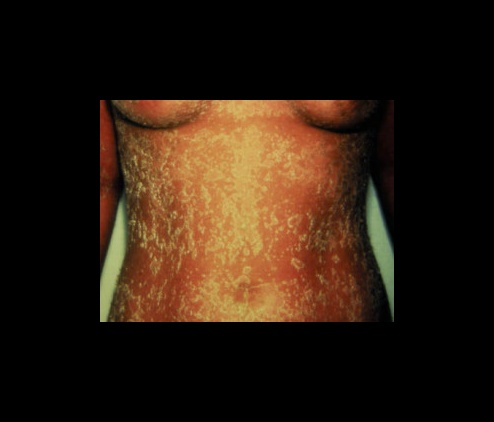SJS-TEN: (103, 94, 384, 321)
